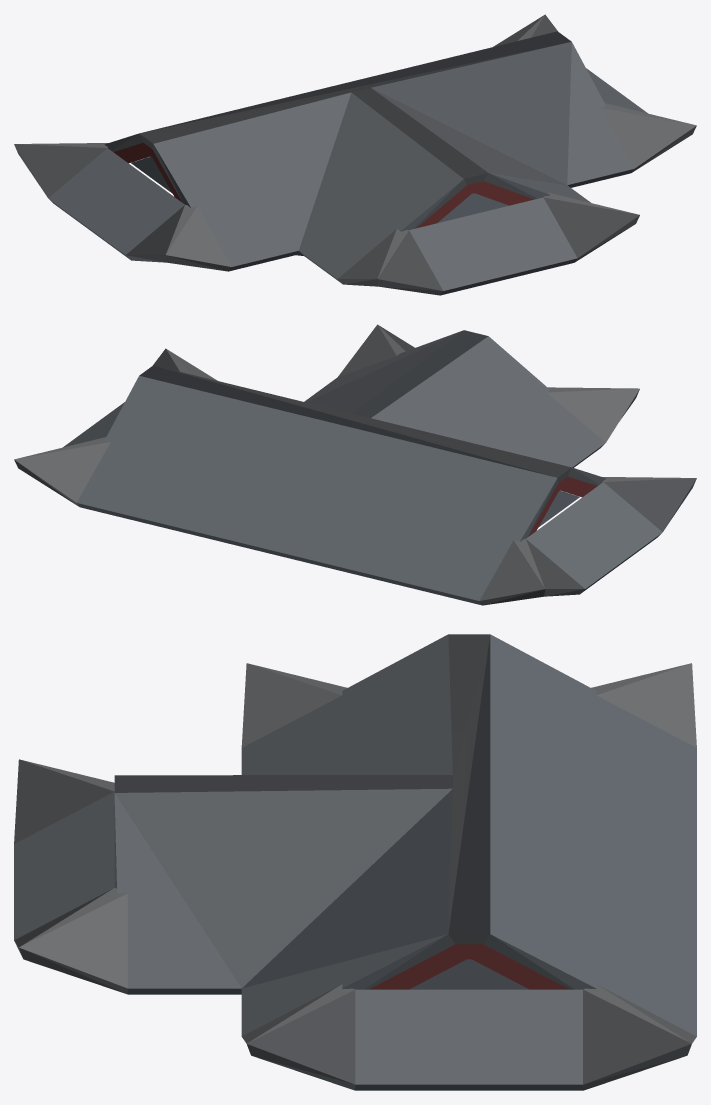
Rendered from BuildingA-T_RoofLOD2.fbx.
The picture shows the model from 3 angles, top to bottom: view 1: azimuth 30°, elevation 25°; view 2: azimuth 150°, elevation 25°; view 3: azimuth 270°, elevation 25°; orthographic projection. The views are drawn at different scales.
Visible parts, largest first — view 1: BuildingA-T_RoofLOD2; view 2: BuildingA-T_RoofLOD2; view 3: BuildingA-T_RoofLOD2.
Boxes of the visible parts, <box> form: BuildingA-T_RoofLOD2: <box>14,14,696,295</box>; BuildingA-T_RoofLOD2: <box>14,324,696,605</box>; BuildingA-T_RoofLOD2: <box>14,634,696,1090</box>.
Bounding box in the file's own units: 2000 × 292 × 1500.
